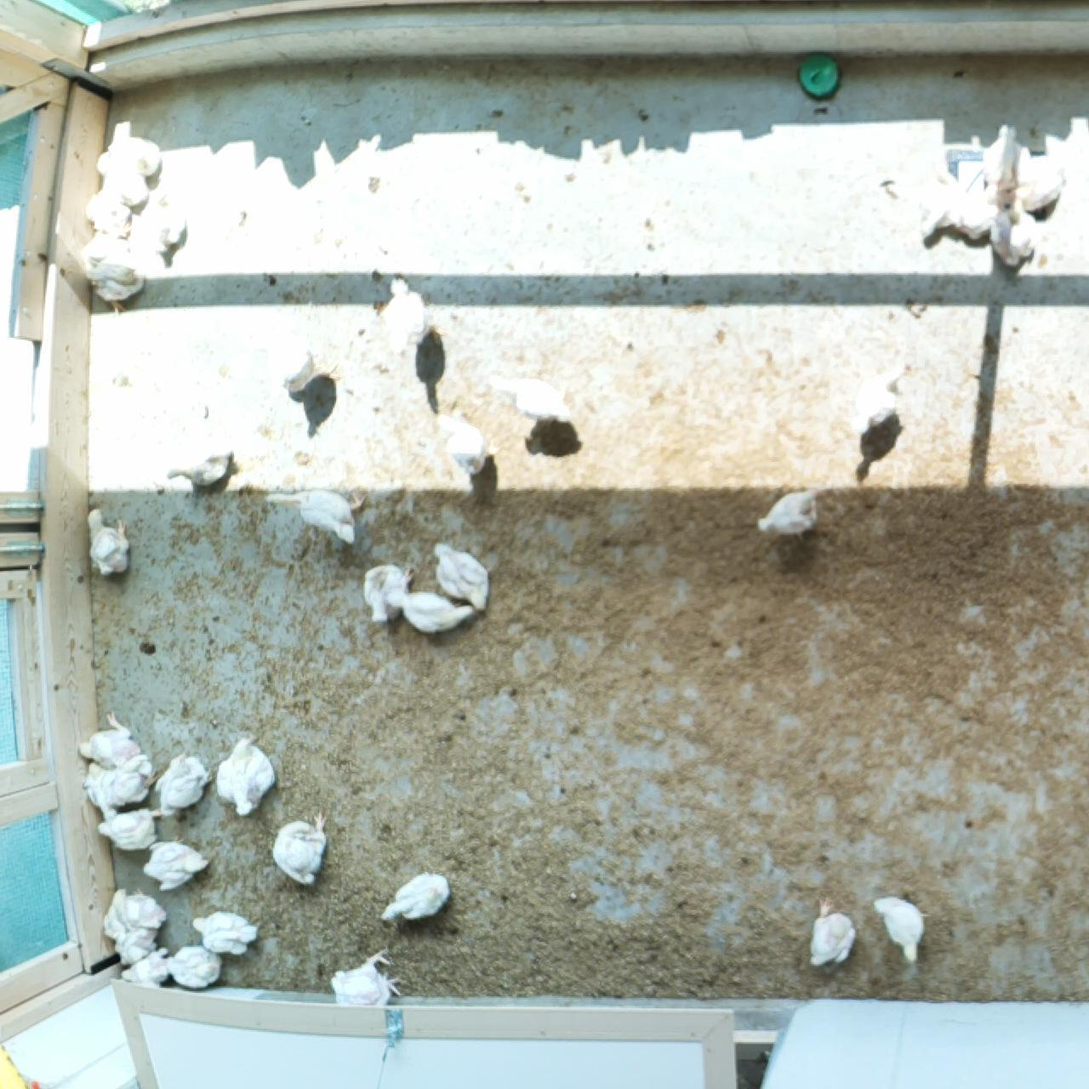chicken: (261, 476, 372, 549), (371, 274, 446, 358), (212, 727, 278, 821), (267, 804, 334, 891), (847, 361, 922, 437), (867, 889, 935, 969), (91, 119, 168, 188), (427, 536, 494, 615), (326, 940, 402, 1009), (485, 369, 572, 428), (375, 865, 455, 929), (140, 829, 213, 897), (385, 584, 478, 637), (801, 888, 859, 970), (151, 747, 215, 821), (911, 159, 963, 248), (74, 706, 145, 770), (82, 252, 150, 317), (435, 408, 494, 482), (989, 194, 1043, 274), (1009, 149, 1077, 211), (276, 340, 345, 400), (162, 441, 241, 493), (752, 485, 826, 540), (977, 118, 1028, 196), (96, 882, 167, 937), (83, 503, 133, 580), (187, 908, 261, 960), (360, 559, 414, 626), (93, 803, 169, 850), (161, 941, 227, 992), (103, 751, 160, 809), (948, 192, 1001, 244), (148, 191, 192, 252), (85, 187, 137, 238), (115, 945, 173, 987), (115, 921, 164, 969), (100, 163, 151, 208), (78, 223, 133, 260), (80, 759, 115, 813)
